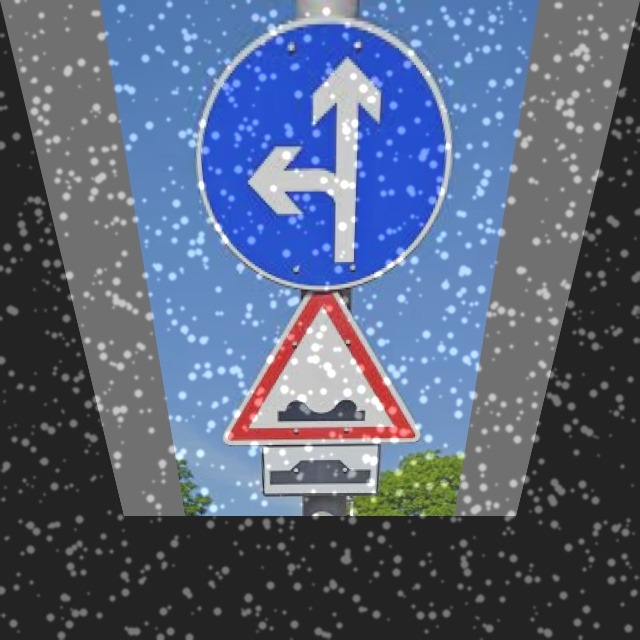Compulsory_Ahead_or_Turn_Left: (173, 24, 480, 290)
